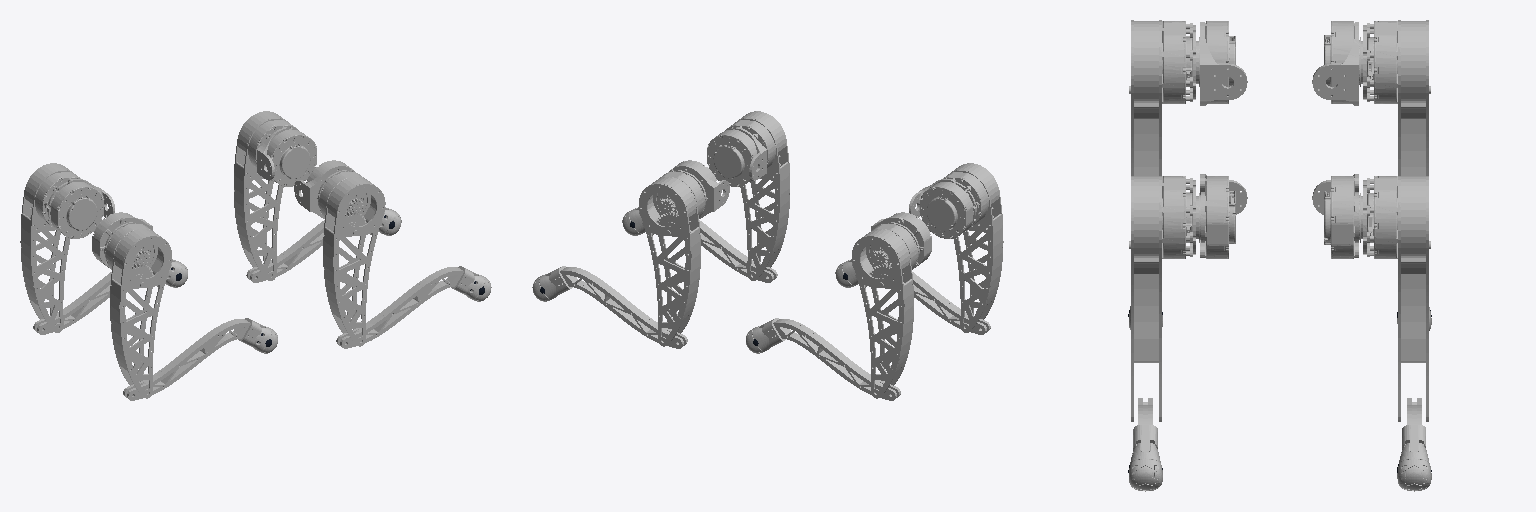
The robot description file, URDF, robot "GO 2026_4_12":
<?xml version="1.0"?>
<robot name="GO 2026_4_12">

  <link name="trunk">
    <visual>
      <origin xyz="0 0 0" rpy="0 0 0" />
      <geometry>
        <mesh filename="meshes/trunk.STL" />
      </geometry>
      <material name="trunk_mat">
        <color rgba="0.75294 0.75294 0.75294 1" />
      </material>
    </visual>
    <collision>
      <origin xyz="0 0 -0.02" rpy="0 0 0" />
      <geometry>
        <box size="0.3 0.14 0.065" />
      </geometry>
    </collision>
    <collision>
      <origin xyz="0 0 -0.08" rpy="0 0 0" />
      <geometry>
        <box size="0.23 0.11 0.06" />
      </geometry>
    </collision>
    <collision>
      <origin xyz="0 0 -0.125" rpy="0 0 0" />
      <geometry>
        <box size="0.21 0.12 0.04" />
      </geometry>
    </collision>
    <collision>
      <origin xyz="0.225 0 -0.13" rpy="0 0 0" />
      <geometry>
        <box size="0.145 0.07 0.01" />
      </geometry>
    </collision>
    <collision>
      <origin xyz="0.225 0 0.015" rpy="0 0 0" />
      <geometry>
        <box size="0.145 0.09 0.01" />
      </geometry>
    </collision>
    <collision>
      <origin xyz="0.293 0 -0.055" rpy="0 0 0" />
      <geometry>
        <box size="0.01 0.09 0.14" />
      </geometry>
    </collision>
    <inertial>
      <origin xyz="-0.013095 -0.00005 -0.074252" rpy="0 0 0" />
      <mass value="5.7042" />
      <inertia ixx="0.0092853" ixy="-0.0000026" ixz="0.0000017" iyy="0.0076386" iyz="-0.0000276" izz="0.012703" />
    </inertial>
  </link>

  <link name="imu_link">
    <visual>
      <origin xyz="0 0 0" rpy="0 0 0" />
      <geometry>
        <box size="0.001 0.001 0.001" />
      </geometry>
      <material name="imu_link_mat">
        <color rgba="0.80000392 0.00000392 0.00000392 1.00000000" />
      </material>
    </visual>
    <inertial>
      <origin xyz="0 0 0" rpy="0 0 0" />
      <mass value="0.001" />
      <inertia ixx="0.0001" ixy="0" ixz="0" iyy="0.0001" iyz="0" izz="0.0001" />
    </inertial>
  </link>

  <link name="d435_link">
    <visual>
      <origin xyz="0.07 0 -0.08" rpy="2.1165682 0 1.5707963" />
      <geometry>
        <mesh filename="meshes/d435.stl" />
      </geometry>
      <material name="d435_mat">
        <color rgba="0.15 0.15 0.15 1" />
      </material>
    </visual>
    <inertial>
      <origin xyz="0 0 -0.0125" rpy="0 0 0" />
      <mass value="0.072" />
      <inertia ixx="0.00002" ixy="0" ixz="0" iyy="0.00006" iyz="0" izz="0.00006" />
    </inertial>
  </link>

  <link name="FL_hip">
    <visual>
      <origin xyz="0 0 0" rpy="0 0 0" />
      <geometry>
        <mesh filename="meshes/FL_hip.STL" />
      </geometry>
      <material name="FL_hip_mat">
        <color rgba="0.75294 0.75294 0.75294 1" />
      </material>
    </visual>
    <collision>
      <origin xyz="0.058 0.055 0" rpy="1.5707963 0 0" />
      <geometry>
        <cylinder radius="0.052" length="0.11" />
      </geometry>
    </collision>
    <inertial>
      <origin xyz="0.05138 0.014784 0.0000566" rpy="0 0 0" />
      <mass value="0.60559" />
      <inertia ixx="0.0003742" ixy="-0.0000088" ixz="0.000001" iyy="0.0006493" iyz="-0.0000001" izz="0.0003415" />
    </inertial>
  </link>

  <link name="FL_thigh">
    <visual>
      <origin xyz="0 0 0" rpy="0 0 0" />
      <geometry>
        <mesh filename="meshes/FL_thigh.STL" />
      </geometry>
      <material name="FL_thigh_mat">
        <color rgba="0.75294 0.75294 0.75294 1" />
      </material>
    </visual>
    <collision>
      <origin xyz="0.06 0.015 -0.17" rpy="0 0 0" />
      <geometry>
        <box size="0.035 0.05 0.205" />
      </geometry>
    </collision>
    <inertial>
      <origin xyz="0.041449 0.004453 -0.021946" rpy="0 0 0" />
      <mass value="0.91168" />
      <inertia ixx="0.0018577" ixy="0" ixz="-0.0000002" iyy="0.0013983" iyz="0.0000051" izz="0.0005179" />
    </inertial>
  </link>

  <link name="FL_calf">
    <visual>
      <origin xyz="0 0 0" rpy="0 0 0" />
      <geometry>
        <mesh filename="meshes/FL_calf.STL" />
      </geometry>
      <material name="FL_calf_mat">
        <color rgba="0.75294 0.75294 0.75294 1" />
      </material>
    </visual>
    <collision>
      <origin xyz="0 -0.025 -0.09" rpy="-0.3548254 0 0" />
      <geometry>
        <cylinder radius="0.014" length="0.13" />
      </geometry>
    </collision>
    <collision>
      <origin xyz="0 -0.052 -0.178" rpy="0.0345575 0 0" />
      <geometry>
        <cylinder radius="0.014" length="0.05" />
      </geometry>
    </collision>
    <collision>
      <origin xyz="0 -0.038 -0.218" rpy="0.6981317 0 0" />
      <geometry>
        <cylinder radius="0.02" length="0.04" />
      </geometry>
    </collision>
    <inertial>
      <origin xyz="0.0000772 -0.024754 -0.14833" rpy="0 0 0" />
      <mass value="0.24861" />
      <inertia ixx="0.000929" ixy="0" ixz="0" iyy="0.0008561" iyz="-0.0002168" izz="0.0000889" />
    </inertial>
  </link>

  <link name="FL_foot">
    <visual>
      <origin xyz="0 0 0" rpy="0 0 0" />
      <geometry>
        <sphere radius="0.02" />
      </geometry>
      <material name="FL_foot_mat">
        <color rgba="0.11765098 0.14902353 0.20000392 1.00000000" />
      </material>
    </visual>
    <collision>
      <origin xyz="0 0 0" rpy="0 0 0" />
      <geometry>
        <sphere radius="0.02" />
      </geometry>
    </collision>
    <inertial>
      <mass value="0.1" />
      <inertia ixx="0.000016" ixy="0" ixz="0" iyy="0.000016" iyz="0" izz="0.000016" />
    </inertial>
  </link>

  <link name="FR_hip">
    <visual>
      <origin xyz="0 0 0" rpy="0 0 0" />
      <geometry>
        <mesh filename="meshes/FR_hip.STL" />
      </geometry>
      <material name="FR_hip_mat">
        <color rgba="0.75294 0.75294 0.75294 1" />
      </material>
    </visual>
    <collision>
      <origin xyz="0.058 -0.055 0" rpy="1.5707963 0 0" />
      <geometry>
        <cylinder radius="0.052" length="0.11" />
      </geometry>
    </collision>
    <inertial>
      <origin xyz="0.05138 -0.014784 -0.0000566" rpy="0 0 0" />
      <mass value="0.60559" />
      <inertia ixx="0.0003742" ixy="0.0000088" ixz="-0.000001" iyy="0.0006493" iyz="-0.0000001" izz="0.0003415" />
    </inertial>
  </link>

  <link name="FR_thigh">
    <visual>
      <origin xyz="0 0 0" rpy="0 0 0" />
      <geometry>
        <mesh filename="meshes/FR_thigh.STL" />
      </geometry>
      <material name="FR_thigh_mat">
        <color rgba="0.75294 0.75294 0.75294 1" />
      </material>
    </visual>
    <collision>
      <origin xyz="0.06 -0.015 -0.17" rpy="0 0 0" />
      <geometry>
        <box size="0.035 0.05 0.205" />
      </geometry>
    </collision>
    <inertial>
      <origin xyz="0.04152 -0.0043781 -0.022024" rpy="0 0 0" />
      <mass value="0.91491" />
      <inertia ixx="0.0018577" ixy="-0.0000001" ixz="-0.0000002" iyy="0.0013991" iyz="-0.0000031" izz="0.0005172" />
    </inertial>
  </link>

  <link name="FR_calf">
    <visual>
      <origin xyz="0 0 0" rpy="0 0 0" />
      <geometry>
        <mesh filename="meshes/FR_calf.STL" />
      </geometry>
      <material name="FR_calf_mat">
        <color rgba="0.75294 0.75294 0.75294 1" />
      </material>
    </visual>
    <collision>
      <origin xyz="0 0.025 -0.09" rpy="0.3548254 0 0" />
      <geometry>
        <cylinder radius="0.014" length="0.13" />
      </geometry>
    </collision>
    <collision>
      <origin xyz="0 0.052 -0.178" rpy="0.0345575 0 0" />
      <geometry>
        <cylinder radius="0.014" length="0.05" />
      </geometry>
    </collision>
    <collision>
      <origin xyz="0 0.038 -0.218" rpy="-0.6981317 0 0" />
      <geometry>
        <cylinder radius="0.02" length="0.04" />
      </geometry>
    </collision>
    <inertial>
      <origin xyz="-0.0000772 0.024754 -0.14833" rpy="0 0 0" />
      <mass value="0.24861" />
      <inertia ixx="0.000929" ixy="0" ixz="0" iyy="0.0008561" iyz="0.0002168" izz="0.0000889" />
    </inertial>
  </link>

  <link name="FR_foot">
    <visual>
      <origin xyz="0 0 0" rpy="0 0 0" />
      <geometry>
        <sphere radius="0.02" />
      </geometry>
      <material name="FR_foot_mat">
        <color rgba="0.11765098 0.14902353 0.20000392 1.00000000" />
      </material>
    </visual>
    <collision>
      <origin xyz="0 0 0" rpy="0 0 0" />
      <geometry>
        <sphere radius="0.02" />
      </geometry>
    </collision>
    <inertial>
      <mass value="0.1" />
      <inertia ixx="0.000016" ixy="0" ixz="0" iyy="0.000016" iyz="0" izz="0.000016" />
    </inertial>
  </link>

  <link name="RR_hip">
    <visual>
      <origin xyz="0 0 0" rpy="0 0 0" />
      <geometry>
        <mesh filename="meshes/RR_hip.STL" />
      </geometry>
      <material name="RR_hip_mat">
        <color rgba="0.75294 0.75294 0.75294 1" />
      </material>
    </visual>
    <collision>
      <origin xyz="0.058 0.055 0" rpy="1.5707963 0 0" />
      <geometry>
        <cylinder radius="0.052" length="0.11" />
      </geometry>
    </collision>
    <inertial>
      <origin xyz="0.05138 0.014784 0.0000566" rpy="0 0 0" />
      <mass value="0.60559" />
      <inertia ixx="0.0003742" ixy="-0.0000088" ixz="0.000001" iyy="0.0006493" iyz="-0.0000001" izz="0.0003415" />
    </inertial>
  </link>

  <link name="RR_thigh">
    <visual>
      <origin xyz="0 0 0" rpy="0 0 0" />
      <geometry>
        <mesh filename="meshes/RR_thigh.STL" />
      </geometry>
      <material name="RR_thigh_mat">
        <color rgba="0.75294 0.75294 0.75294 1" />
      </material>
    </visual>
    <collision>
      <origin xyz="0.06 -0.015 -0.17" rpy="0 0 0" />
      <geometry>
        <box size="0.035 0.05 0.205" />
      </geometry>
    </collision>
    <inertial>
      <origin xyz="0.04152 -0.0043784 -0.022024" rpy="0 0 0" />
      <mass value="0.91491" />
      <inertia ixx="0.0018577" ixy="-0.0000001" ixz="-0.0000002" iyy="0.0013991" iyz="-0.0000031" izz="0.0005172" />
    </inertial>
  </link>

  <link name="RR_calf">
    <visual>
      <origin xyz="0 0 0" rpy="0 0 0" />
      <geometry>
        <mesh filename="meshes/RR_calf.STL" />
      </geometry>
      <material name="RR_calf_mat">
        <color rgba="0.75294 0.75294 0.75294 1" />
      </material>
    </visual>
    <collision>
      <origin xyz="0 0.025 -0.09" rpy="0.3548254 0 0" />
      <geometry>
        <cylinder radius="0.014" length="0.13" />
      </geometry>
    </collision>
    <collision>
      <origin xyz="0 0.052 -0.178" rpy="-0.0345575 0 0" />
      <geometry>
        <cylinder radius="0.014" length="0.05" />
      </geometry>
    </collision>
    <collision>
      <origin xyz="0 0.038 -0.218" rpy="-0.6981317 0 0" />
      <geometry>
        <cylinder radius="0.02" length="0.04" />
      </geometry>
    </collision>
    <inertial>
      <origin xyz="-0.0000772 0.024754 -0.14833" rpy="0 0 0" />
      <mass value="0.24861" />
      <inertia ixx="0.000929" ixy="0" ixz="0" iyy="0.0008561" iyz="0.0002168" izz="0.0000889" />
    </inertial>
  </link>

  <link name="RR_foot">
    <visual>
      <origin xyz="0 0 0" rpy="0 0 0" />
      <geometry>
        <sphere radius="0.02" />
      </geometry>
      <material name="RR_foot_mat">
        <color rgba="0.11765098 0.14902353 0.20000392 1.00000000" />
      </material>
    </visual>
    <collision>
      <origin xyz="0 0 0" rpy="0 0 0" />
      <geometry>
        <sphere radius="0.02" />
      </geometry>
    </collision>
    <inertial>
      <mass value="0.1" />
      <inertia ixx="0.000016" ixy="0" ixz="0" iyy="0.000016" iyz="0" izz="0.000016" />
    </inertial>
  </link>

  <link name="RL_hip">
    <visual>
      <origin xyz="0 0 0" rpy="0 0 0" />
      <geometry>
        <mesh filename="meshes/RL_hip.STL" />
      </geometry>
      <material name="RL_hip_mat">
        <color rgba="0.75294 0.75294 0.75294 1" />
      </material>
    </visual>
    <collision>
      <origin xyz="0.058 -0.055 0" rpy="1.5707963 0 0" />
      <geometry>
        <cylinder radius="0.052" length="0.11" />
      </geometry>
    </collision>
    <inertial>
      <origin xyz="0.05138 -0.014784 -0.0000566" rpy="0 0 0" />
      <mass value="0.60559" />
      <inertia ixx="0.0003742" ixy="0.0000088" ixz="-0.000001" iyy="0.0006493" iyz="-0.0000001" izz="0.0003415" />
    </inertial>
  </link>

  <link name="RL_thigh">
    <visual>
      <origin xyz="0 0 0" rpy="0 0 0" />
      <geometry>
        <mesh filename="meshes/RL_thigh.STL" />
      </geometry>
      <material name="RL_thigh_mat">
        <color rgba="0.75294 0.75294 0.75294 1" />
      </material>
    </visual>
    <collision>
      <origin xyz="0.06 0.015 -0.17" rpy="0 0 0" />
      <geometry>
        <box size="0.035 0.05 0.205" />
      </geometry>
    </collision>
    <inertial>
      <origin xyz="0.041449 0.0044527 -0.021947" rpy="0 0 0" />
      <mass value="0.91168" />
      <inertia ixx="0.0018577" ixy="0" ixz="-0.0000002" iyy="0.0013983" iyz="0.0000051" izz="0.0005179" />
    </inertial>
  </link>

  <link name="RL_calf">
    <visual>
      <origin xyz="0 0 0" rpy="0 0 0" />
      <geometry>
        <mesh filename="meshes/RL_calf.STL" />
      </geometry>
      <material name="RL_calf_mat">
        <color rgba="0.75294 0.75294 0.75294 1" />
      </material>
    </visual>
    <collision>
      <origin xyz="0 -0.025 -0.09" rpy="-0.3548254 0 0" />
      <geometry>
        <cylinder radius="0.014" length="0.13" />
      </geometry>
    </collision>
    <collision>
      <origin xyz="0 -0.052 -0.178" rpy="0.0345575 0 0" />
      <geometry>
        <cylinder radius="0.014" length="0.05" />
      </geometry>
    </collision>
    <collision>
      <origin xyz="0 -0.038 -0.218" rpy="0.6981317 0 0" />
      <geometry>
        <cylinder radius="0.02" length="0.04" />
      </geometry>
    </collision>
    <inertial>
      <origin xyz="0.0000772 -0.024754 -0.14833" rpy="0 0 0" />
      <mass value="0.24861" />
      <inertia ixx="0.000929" ixy="0" ixz="0" iyy="0.0008561" iyz="-0.0002168" izz="0.0000889" />
    </inertial>
  </link>

  <link name="RL_foot">
    <visual>
      <origin xyz="0 0 0" rpy="0 0 0" />
      <geometry>
        <sphere radius="0.02" />
      </geometry>
      <material name="RL_foot_mat">
        <color rgba="0.11765098 0.14902353 0.20000392 1.00000000" />
      </material>
    </visual>
    <collision>
      <origin xyz="0 0 0" rpy="0 0 0" />
      <geometry>
        <sphere radius="0.02" />
      </geometry>
    </collision>
    <inertial>
      <mass value="0.1" />
      <inertia ixx="0.000016" ixy="0" ixz="0" iyy="0.000016" iyz="0" izz="0.000016" />
    </inertial>
  </link>

  <joint name="imu_joint" type="fixed">
    <parent link="trunk" />
    <child link="imu_link" />
    <origin xyz="0 0 0" rpy="0 0 0" />
  </joint>

  <joint name="d435_joint" type="fixed">
    <parent link="trunk" />
    <child link="d435_link" />
    <origin xyz="0.225 0 0.028" rpy="0 0 0" />
  </joint>

  <joint name="FL_hip_joint" type="revolute">
    <parent link="trunk" />
    <child link="FL_hip" />
    <origin xyz="0.1566 0.060001 -0.06425" rpy="0 0 0" />
    <axis xyz="1 0 0" />
    <limit lower="-0.5" upper="0.5" effort="20" velocity="25" />
  </joint>

  <joint name="FL_thigh_joint" type="revolute">
    <parent link="FL_hip" />
    <child link="FL_thigh" />
    <origin xyz="0.056 0.0336 0" rpy="0 0 1.5708" />
    <axis xyz="1 0 0" />
    <limit lower="-1.2" upper="1.6" effort="20" velocity="25" />
  </joint>

  <joint name="FL_calf_joint" type="revolute">
    <parent link="FL_thigh" />
    <child link="FL_calf" />
    <origin xyz="0.0618 0 -0.25" rpy="0 0 0" />
    <axis xyz="1 0 0" />
    <limit lower="-2.5" upper="-0.85" effort="20" velocity="25" />
  </joint>

  <joint name="FL_foot_fixed" type="fixed" dont_collapse="true">
    <parent link="FL_calf" />
    <child link="FL_foot" />
    <origin xyz="0 -0.013803 -0.24433" rpy="0 0 0" />
  </joint>

  <joint name="FR_hip_joint" type="revolute">
    <parent link="trunk" />
    <child link="FR_hip" />
    <origin xyz="0.1566 -0.059999 -0.06425" rpy="0 0 0" />
    <axis xyz="1 0 0" />
    <limit lower="-0.5" upper="0.5" effort="20" velocity="25" />
  </joint>

  <joint name="FR_thigh_joint" type="revolute">
    <parent link="FR_hip" />
    <child link="FR_thigh" />
    <origin xyz="0.056 -0.0336 0" rpy="0 0 -1.5708" />
    <axis xyz="1 0 0" />
    <limit lower="-1.6" upper="1.2" effort="20" velocity="25" />
  </joint>

  <joint name="FR_calf_joint" type="revolute">
    <parent link="FR_thigh" />
    <child link="FR_calf" />
    <origin xyz="0.0618 0 -0.25" rpy="0 0 0" />
    <axis xyz="1 0 0" />
    <limit lower="0.85" upper="2.5" effort="20" velocity="25" />
  </joint>

  <joint name="FR_foot_fixed" type="fixed" dont_collapse="true">
    <parent link="FR_calf" />
    <child link="FR_foot" />
    <origin xyz="0 0.013803 -0.24433" rpy="0 0 0" />
  </joint>

  <joint name="RR_hip_joint" type="revolute">
    <parent link="trunk" />
    <child link="RR_hip" />
    <origin xyz="-0.1566 -0.059999 -0.06425" rpy="0 0 -3.1416" />
    <axis xyz="1 0 0" />
    <limit lower="-0.5" upper="0.5" effort="20" velocity="25" />
  </joint>

  <joint name="RR_thigh_joint" type="revolute">
    <parent link="RR_hip" />
    <child link="RR_thigh" />
    <origin xyz="0.056 0.0336 0" rpy="0 0 1.5708" />
    <axis xyz="1 0 0" />
    <limit lower="-1.6" upper="1.2" effort="20" velocity="25" />
  </joint>

  <joint name="RR_calf_joint" type="revolute">
    <parent link="RR_thigh" />
    <child link="RR_calf" />
    <origin xyz="0.0618 0 -0.25" rpy="0 0 0" />
    <axis xyz="1 0 0" />
    <limit lower="0.85" upper="2.5" effort="20" velocity="25" />
  </joint>

  <joint name="RR_foot_fixed" type="fixed" dont_collapse="true">
    <parent link="RR_calf" />
    <child link="RR_foot" />
    <origin xyz="0 0.013803 -0.24433" rpy="0 0 0" />
  </joint>

  <joint name="RL_hip_joint" type="revolute">
    <parent link="trunk" />
    <child link="RL_hip" />
    <origin xyz="-0.1566 0.060001 -0.06425" rpy="0 0 -3.1416" />
    <axis xyz="1 0 0" />
    <limit lower="-0.5" upper="0.5" effort="20" velocity="25" />
  </joint>

  <joint name="RL_thigh_joint" type="revolute">
    <parent link="RL_hip" />
    <child link="RL_thigh" />
    <origin xyz="0.056 -0.0336 0" rpy="0 0 -1.5708" />
    <axis xyz="1 0 0" />
    <limit lower="-1.2" upper="1.6" effort="20" velocity="25" />
  </joint>

  <joint name="RL_calf_joint" type="revolute">
    <parent link="RL_thigh" />
    <child link="RL_calf" />
    <origin xyz="0.0618 0 -0.25" rpy="0 0 0" />
    <axis xyz="1 0 0" />
    <limit lower="-2.5" upper="-0.85" effort="20" velocity="25" />
  </joint>

  <joint name="RL_foot_fixed" type="fixed" dont_collapse="true">
    <parent link="RL_calf" />
    <child link="RL_foot" />
    <origin xyz="0 -0.013803 -0.24433" rpy="0 0 0" />
  </joint>

</robot>

--- Render facts (derived) ---
3 views of the same robot in one strip: view 1: azimuth 30°, elevation 25°; view 2: azimuth 150°, elevation 25°; view 3: azimuth 270°, elevation 25° (orthographic).
Model GO 2026_4_12 with 19 links and 18 joints (12 revolute, 6 fixed), rooted at trunk, posed all joints at 0 but 4 set to mid-range because 0 is outside their limits (FL_calf_joint = -1.68, FR_calf_joint = 1.68, RR_calf_joint = 1.68, RL_calf_joint = -1.68).
Visible links, largest first — view 1: RR_thigh, FR_thigh, RL_thigh, FL_thigh, FR_calf, RR_calf, RL_hip, FL_hip, RL_calf, FL_calf, FR_hip, RR_hip; view 2: FL_thigh, RL_thigh, RR_thigh, FR_thigh, FL_calf, RL_calf, RR_hip, FR_hip, RR_calf, FR_calf, FL_hip, RL_hip; view 3: FL_thigh, FR_thigh, RL_thigh, RR_thigh, RR_hip, FR_hip, RL_hip, FL_hip, FR_calf, FL_calf.
Boxes of the visible links, x1,y1,x2,y2 form: RR_thigh: (104, 222, 171, 398); FR_thigh: (317, 170, 385, 346); RL_thigh: (20, 163, 80, 332); FL_thigh: (234, 111, 298, 280); FR_calf: (336, 266, 491, 348); RR_calf: (123, 318, 277, 400); RL_hip: (50, 179, 114, 238); FL_hip: (257, 127, 316, 186); RL_calf: (33, 259, 187, 334); FL_calf: (246, 207, 401, 282); FR_hip: (294, 160, 354, 218); RR_hip: (92, 212, 152, 267); FL_thigh: (639, 170, 706, 346); RL_thigh: (852, 222, 919, 398); RR_thigh: (943, 163, 1003, 332); FR_thigh: (725, 111, 789, 280); FL_calf: (532, 266, 687, 348); RL_calf: (746, 318, 900, 400); RR_hip: (909, 179, 973, 238); FR_hip: (707, 127, 766, 186); RR_calf: (835, 259, 990, 334); FR_calf: (622, 207, 777, 282); FL_hip: (669, 160, 729, 218); RL_hip: (871, 212, 931, 267); FL_thigh: (1361, 176, 1430, 421); FR_thigh: (1129, 176, 1198, 421); RL_thigh: (1361, 20, 1430, 175); RR_thigh: (1129, 20, 1198, 175); RR_hip: (1199, 21, 1247, 105); FR_hip: (1199, 174, 1247, 258); RL_hip: (1312, 21, 1360, 105); FL_hip: (1312, 174, 1360, 258); FR_calf: (1129, 398, 1162, 491); FL_calf: (1397, 398, 1431, 491).
Size in the robot's own frame: 0.7461 by 0.3509 by 0.3267 metres.
Meshes: 14 distinct files referenced, 12 mesh visuals loaded (12 binary STL); not drawn: 2 (reference not matched to a file when rendering).
